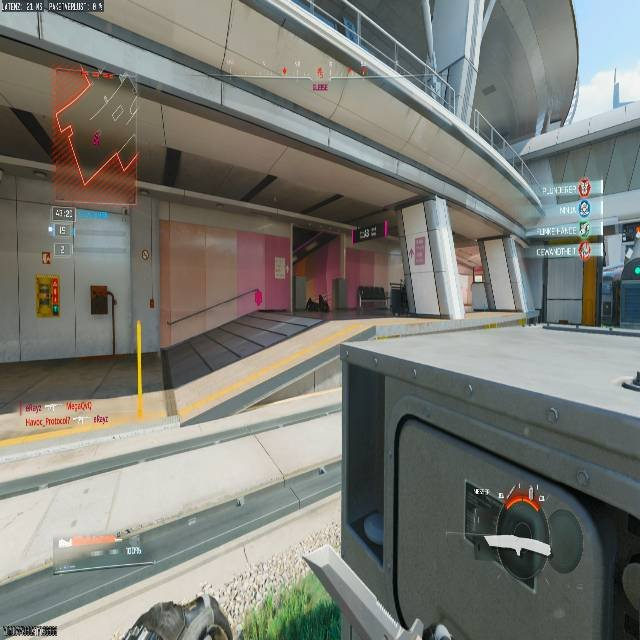player: (388, 279, 413, 317)
